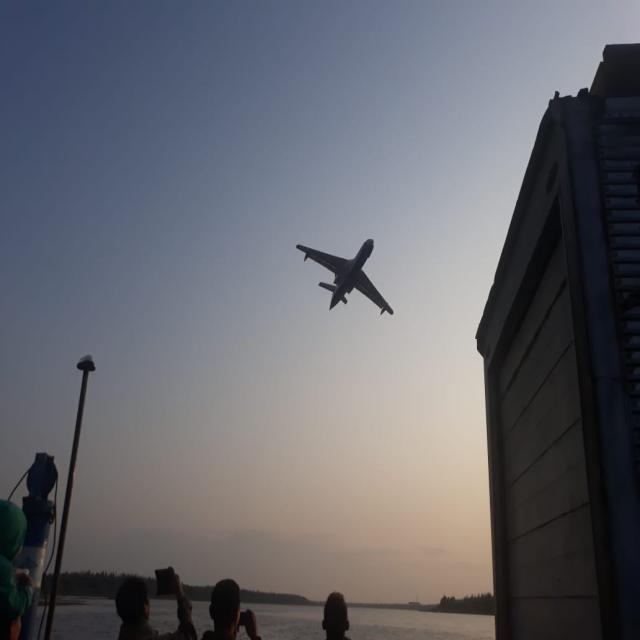MIL_Plane: (52, 238, 125, 316)
